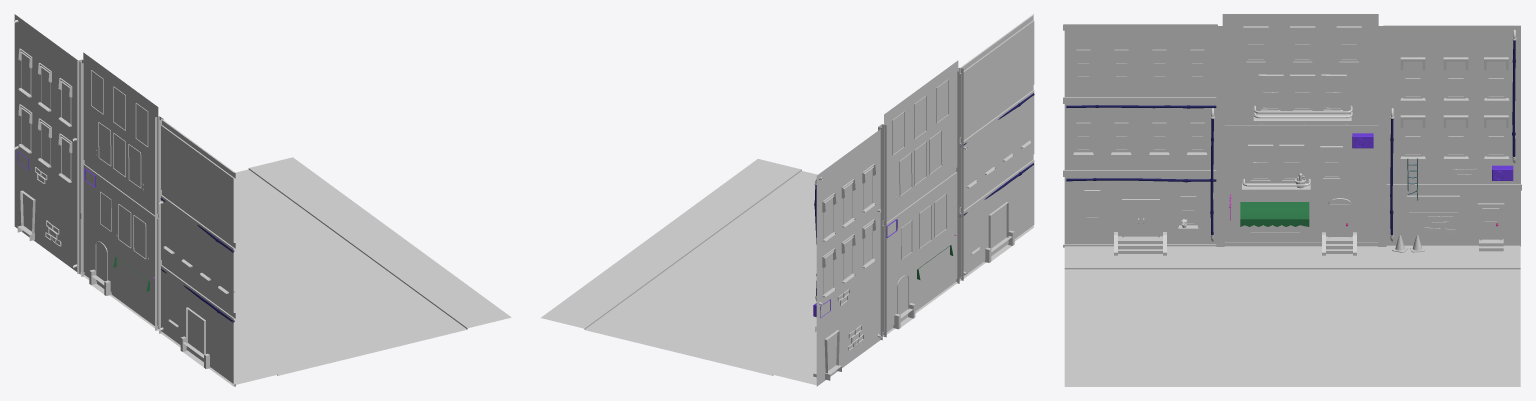
File: SM_CR_Street.fbx
3 renders of one model, left to right at view 1: azimuth 30°, elevation 25°; view 2: azimuth 150°, elevation 25°; view 3: azimuth 270°, elevation 25°, orthographic. The views are drawn at different scales.
Parts seen in each view (by area): view 1: Carretera, building_011.027, Acera, building_050.005, building_050.004, building_011.015, building_011.014, building_011.013, Plane.024, Plane.007, Acera 2, building_011 (+6 smaller); view 2: Carretera, building_011.027, Acera, building_050.005, building_050.004, building_011.015, building_011.014, building_011.013, Plane.007, Plane.024, Acera 2, building_011 (+6 smaller); view 3: Carretera, building_011.027, building_050.005, building_050.004, Acera, Acera 2, building_011.015, building_011.014, building_011.013, building_011, Plane.007, Plane.024 (+48 smaller).
Boxes of the visible parts, x1,y1,x2,y2 form: Carretera: (233,169,466,375); building_011.027: (14,14,80,274); Acera: (248,157,511,329); building_050.005: (83,52,158,213); building_050.004: (83,165,158,325); building_011.015: (161,125,233,242); building_011.014: (161,196,233,312); building_011.013: (161,266,233,383); Plane.024: (77,59,84,276); Plane.007: (155,116,163,333); Acera 2: (80,272,277,385); building_011: (161,118,235,386); Carretera: (585,171,817,375); building_011.027: (816,129,880,386); Acera: (541,159,801,329); building_050.005: (884,60,958,220); building_050.004: (884,172,957,331); building_011.015: (961,21,1034,136); building_011.014: (961,90,1034,206); building_011.013: (961,160,1034,277); Plane.007: (956,68,963,283); Plane.024: (878,124,886,340); Acera 2: (772,226,1033,385); building_011: (959,14,1033,280); Carretera: (1064,269,1520,364); building_011.027: (1383,25,1520,246); building_050.005: (1222,14,1378,125); building_050.004: (1224,131,1377,242); Acera: (1064,364,1520,386); Acera 2: (1064,245,1520,269); building_011.015: (1064,30,1216,96); building_011.014: (1064,104,1216,169); building_011.013: (1064,177,1216,244); building_011: (1063,24,1217,247); Plane.007: (1216,26,1224,246); Plane.024: (1378,26,1386,246).
Bounding box in the file's own units: 2243 × 1693 × 3018.
